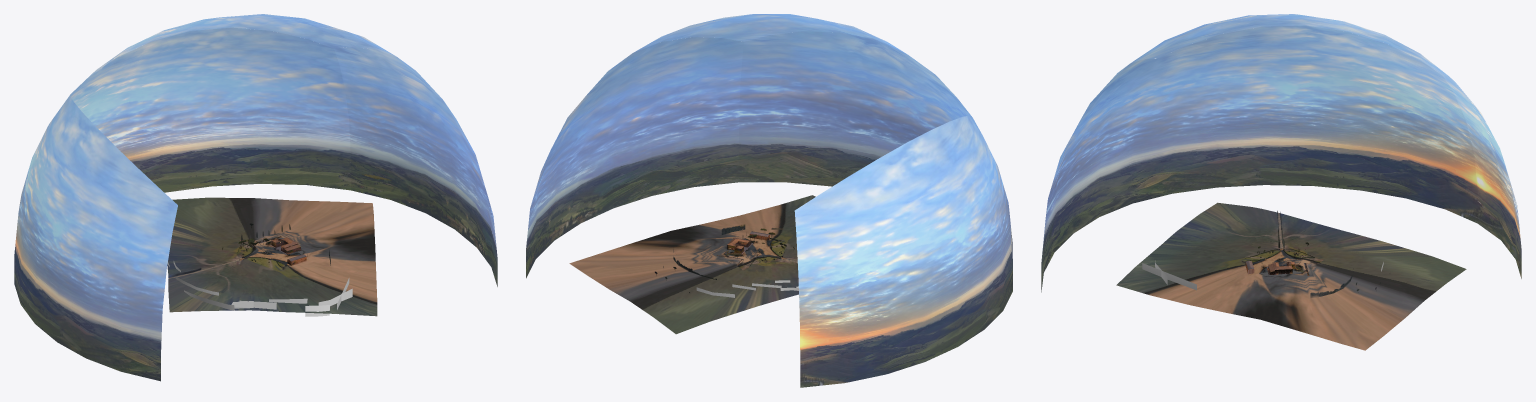
File: poster1.glb
3 renders of one model, left to right at view 1: azimuth 30°, elevation 25°; view 2: azimuth 150°, elevation 25°; view 3: azimuth 270°, elevation 25°, orthographic.
Parts seen in each view (by area): view 1: 157353e9-38b5-4cae-bf57-c6df6605b9da, 1ae9bfa3-d249-4d73-bd7d-a659bdfc96be, 980eaf03-7974-4a81-a0ba-6cdd02363f99, 47e6cc58-7052-4343-a3f4-e4644f0c3c6d, 9ce9a553-5220-4459-b162-51f0c7c717ba, 6d82906c-61ad-42b9-ae75-92e9bb0180c6, 3afe1ca7-1c86-47c9-a4d4-a0c7a1dc1554; view 2: 1ae9bfa3-d249-4d73-bd7d-a659bdfc96be, 47e6cc58-7052-4343-a3f4-e4644f0c3c6d, 6dd610e6-b67e-46fd-89a7-0d6c95fdedc7, 980eaf03-7974-4a81-a0ba-6cdd02363f99, 9ce9a553-5220-4459-b162-51f0c7c717ba, 3afe1ca7-1c86-47c9-a4d4-a0c7a1dc1554, 6d82906c-61ad-42b9-ae75-92e9bb0180c6; view 3: 1ae9bfa3-d249-4d73-bd7d-a659bdfc96be, 980eaf03-7974-4a81-a0ba-6cdd02363f99, 6dd610e6-b67e-46fd-89a7-0d6c95fdedc7, 157353e9-38b5-4cae-bf57-c6df6605b9da, 9ce9a553-5220-4459-b162-51f0c7c717ba, 3afe1ca7-1c86-47c9-a4d4-a0c7a1dc1554, 6d82906c-61ad-42b9-ae75-92e9bb0180c6.
Part boxes in pixels (bbox=[...]): 157353e9-38b5-4cae-bf57-c6df6605b9da: bbox=[70, 27, 350, 192]; 1ae9bfa3-d249-4d73-bd7d-a659bdfc96be: bbox=[14, 94, 177, 381]; 980eaf03-7974-4a81-a0ba-6cdd02363f99: bbox=[167, 197, 377, 316]; 47e6cc58-7052-4343-a3f4-e4644f0c3c6d: bbox=[334, 47, 497, 286]; 9ce9a553-5220-4459-b162-51f0c7c717ba: bbox=[89, 14, 396, 76]; 6d82906c-61ad-42b9-ae75-92e9bb0180c6: bbox=[167, 261, 352, 316]; 3afe1ca7-1c86-47c9-a4d4-a0c7a1dc1554: bbox=[239, 239, 308, 267]; 1ae9bfa3-d249-4d73-bd7d-a659bdfc96be: bbox=[794, 115, 1012, 387]; 47e6cc58-7052-4343-a3f4-e4644f0c3c6d: bbox=[526, 37, 744, 278]; 6dd610e6-b67e-46fd-89a7-0d6c95fdedc7: bbox=[738, 31, 981, 186]; 980eaf03-7974-4a81-a0ba-6cdd02363f99: bbox=[569, 195, 815, 334]; 9ce9a553-5220-4459-b162-51f0c7c717ba: bbox=[634, 14, 906, 53]; 3afe1ca7-1c86-47c9-a4d4-a0c7a1dc1554: bbox=[727, 235, 785, 270]; 6d82906c-61ad-42b9-ae75-92e9bb0180c6: bbox=[696, 280, 798, 297]; 1ae9bfa3-d249-4d73-bd7d-a659bdfc96be: bbox=[1132, 25, 1477, 223]; 980eaf03-7974-4a81-a0ba-6cdd02363f99: bbox=[1116, 202, 1466, 350]; 6dd610e6-b67e-46fd-89a7-0d6c95fdedc7: bbox=[1041, 58, 1158, 292]; 157353e9-38b5-4cae-bf57-c6df6605b9da: bbox=[1442, 75, 1521, 278]; 9ce9a553-5220-4459-b162-51f0c7c717ba: bbox=[1131, 14, 1448, 76]; 3afe1ca7-1c86-47c9-a4d4-a0c7a1dc1554: bbox=[1248, 248, 1323, 275]; 6d82906c-61ad-42b9-ae75-92e9bb0180c6: bbox=[1142, 260, 1383, 290].
Bounding box in the file's own units: 699 × 398 × 699.
Materials: 27 (26 with a texture image).
